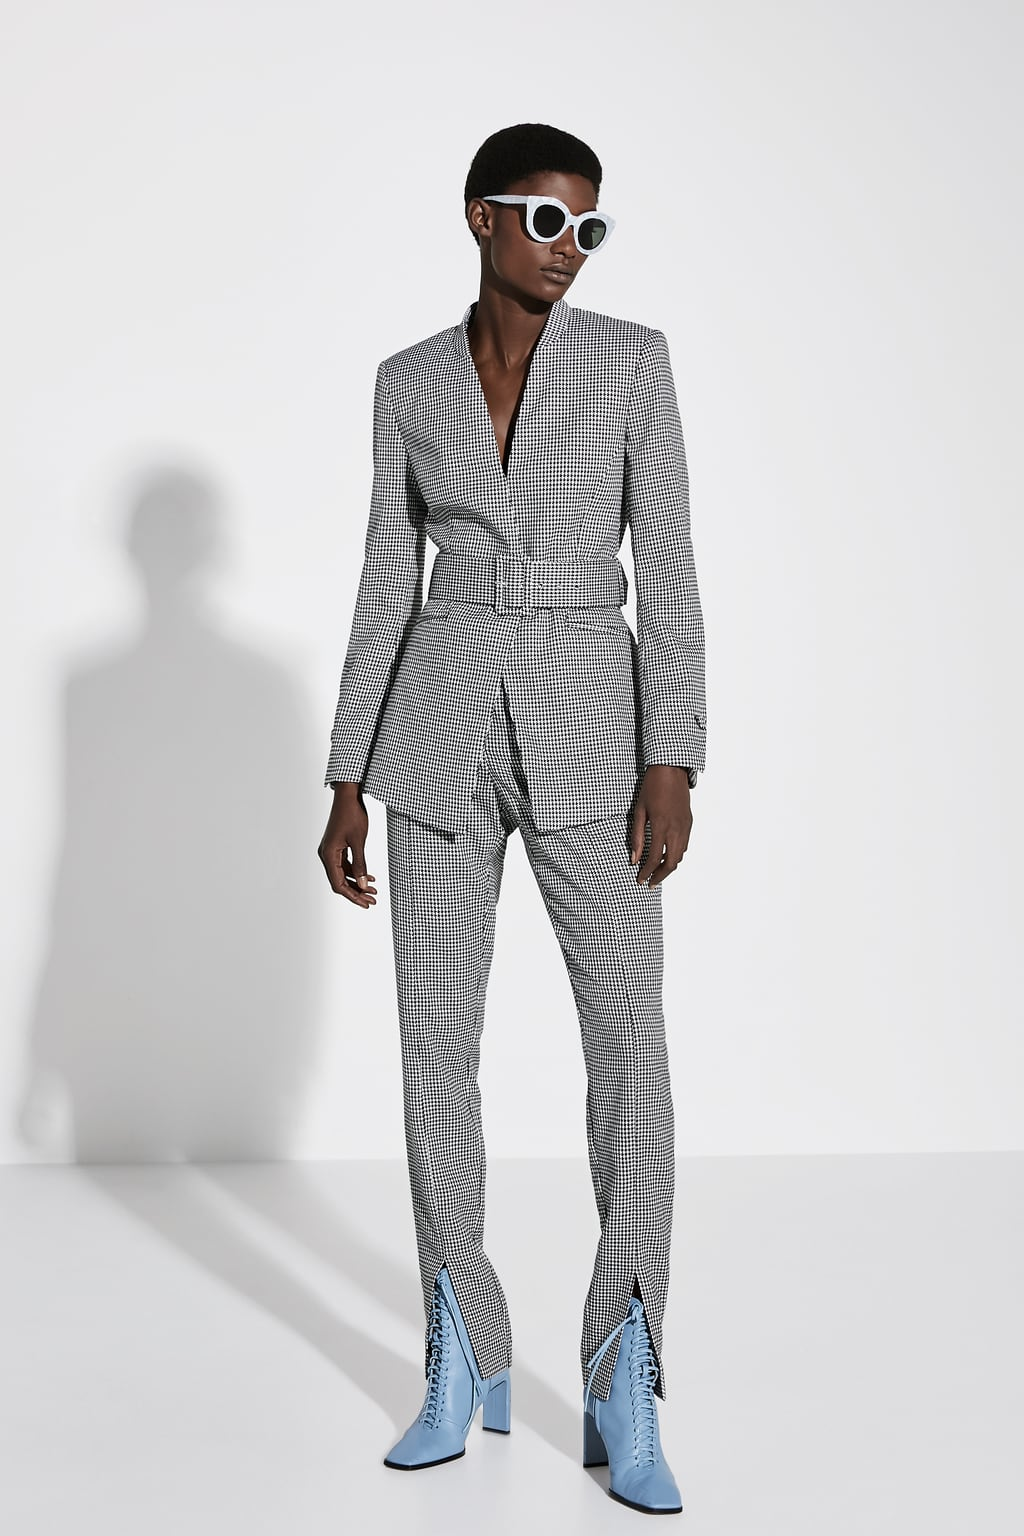F_W_suit jacket: (315, 305, 729, 830)
